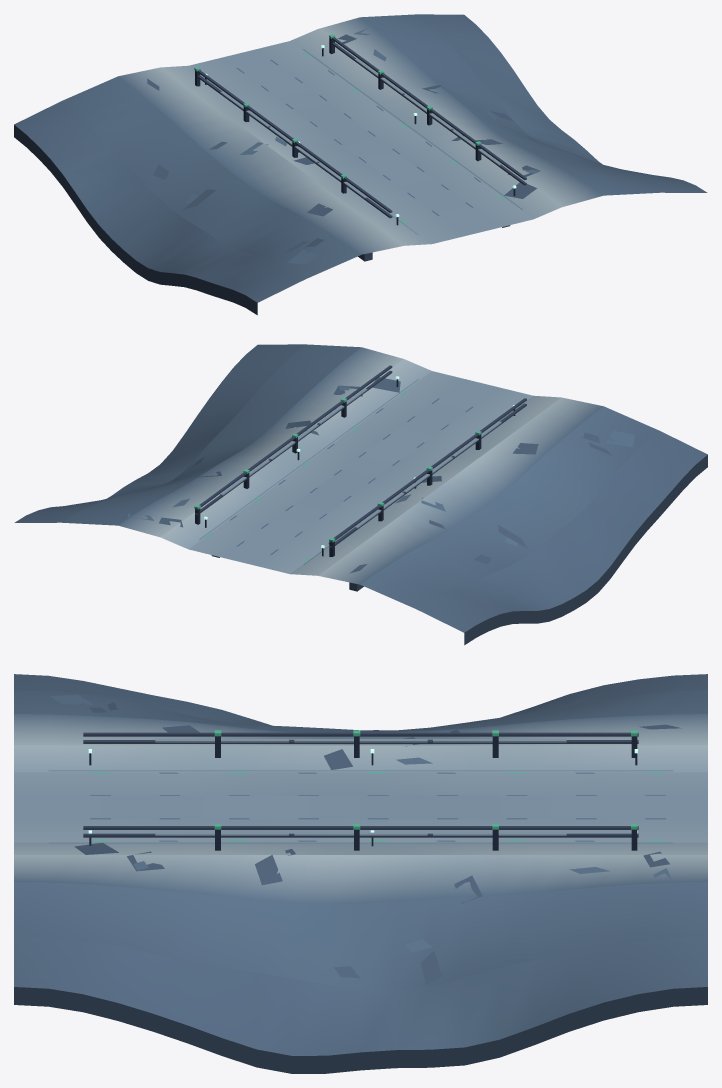
File: 04-bridge.glb
The picture shows the model from 3 angles, top to bottom: view 1: azimuth 30°, elevation 25°; view 2: azimuth 150°, elevation 25°; view 3: azimuth 270°, elevation 25°; orthographic projection. The views are drawn at different scales.
Visible parts, largest first — view 1: bridge; view 2: bridge; view 3: bridge.
Part boxes in pixels (box(x1,y1,x2,y2)): bridge: box(14, 14, 707, 315); bridge: box(14, 344, 707, 645); bridge: box(14, 674, 707, 1073).
Bounding box in the file's own units: 32 × 6.63 × 30.
